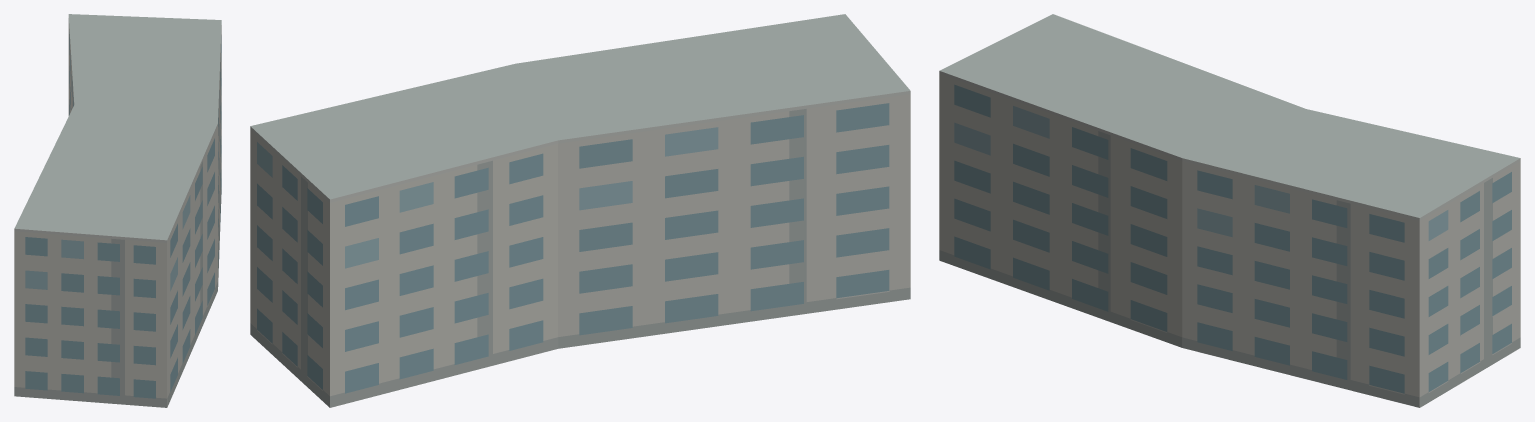
File: residential-1220352f-3052-4deb-b36e-3b26a962c0dd.glb
3 views of the same model, side by side, from view 1: azimuth 30°, elevation 25°; view 2: azimuth 150°, elevation 25°; view 3: azimuth 270°, elevation 25° (orthographic). The views are drawn at different scales.
Parts seen in each view (by area): view 1: residential-1220352f-3052-4deb-b36e-3b26a962c0dd.tmp; view 2: residential-1220352f-3052-4deb-b36e-3b26a962c0dd.tmp; view 3: residential-1220352f-3052-4deb-b36e-3b26a962c0dd.tmp.
Part boxes in pixels (left/top/right/bottom): residential-1220352f-3052-4deb-b36e-3b26a962c0dd.tmp: left=14, top=14, right=221, bottom=407; residential-1220352f-3052-4deb-b36e-3b26a962c0dd.tmp: left=250, top=14, right=910, bottom=407; residential-1220352f-3052-4deb-b36e-3b26a962c0dd.tmp: left=939, top=14, right=1520, bottom=407.
Bounding box in the file's own units: 35.17 × 15.25 × 42.32.
